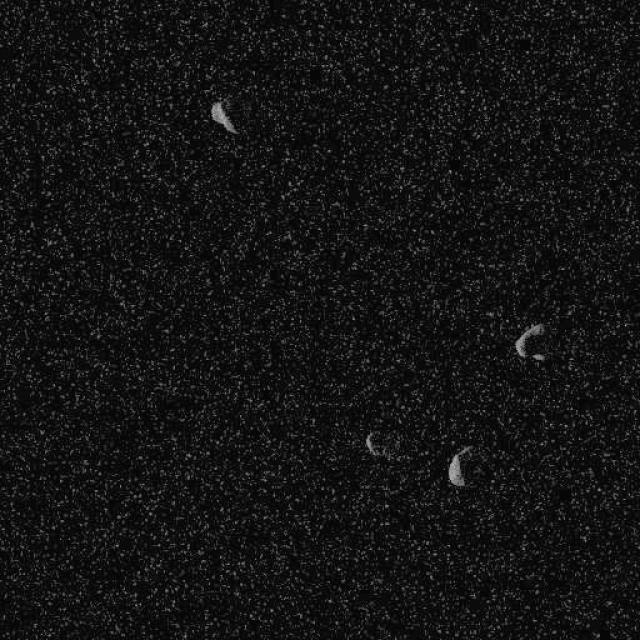D2: (514, 321, 546, 361), (447, 443, 472, 488), (209, 99, 239, 135)
